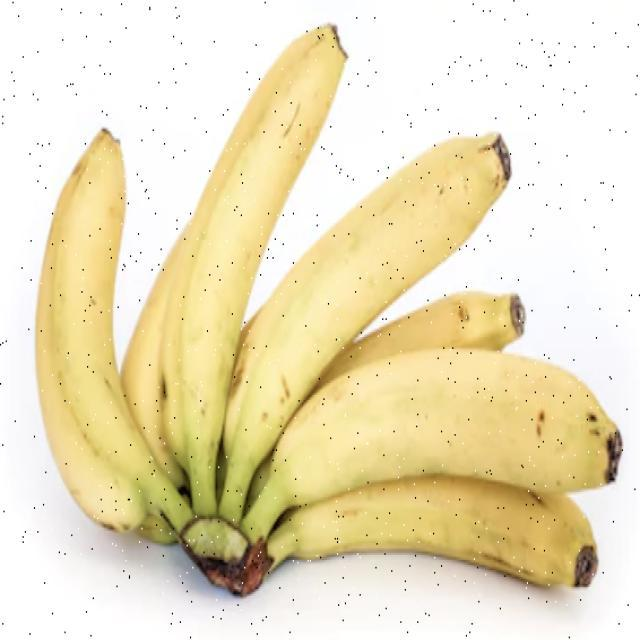Banana: (33, 22, 622, 596)
